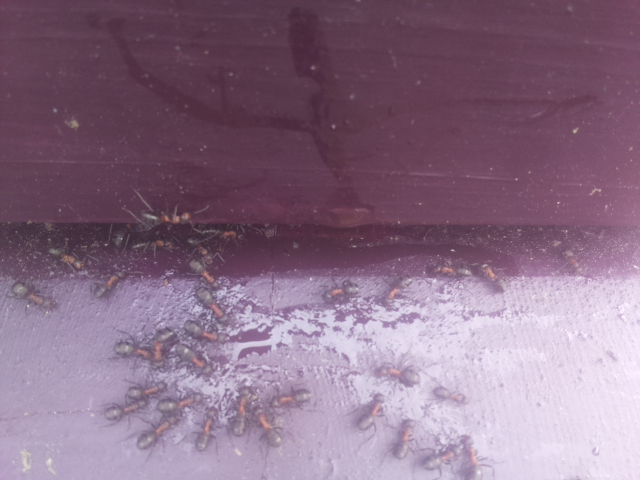ant: (131, 397, 195, 453), (101, 375, 163, 427), (2, 276, 66, 318), (104, 333, 170, 369), (182, 249, 228, 297), (190, 279, 233, 326), (167, 341, 215, 377), (417, 440, 466, 475), (255, 404, 288, 455), (87, 267, 131, 305), (188, 408, 223, 453), (132, 207, 199, 228), (369, 360, 422, 386), (42, 243, 89, 272), (354, 393, 388, 433), (318, 276, 364, 305), (227, 389, 255, 436), (390, 418, 417, 465), (476, 259, 507, 295), (270, 386, 316, 410), (180, 320, 224, 343), (426, 261, 478, 280), (384, 275, 414, 305), (461, 436, 481, 480), (434, 384, 467, 406)
